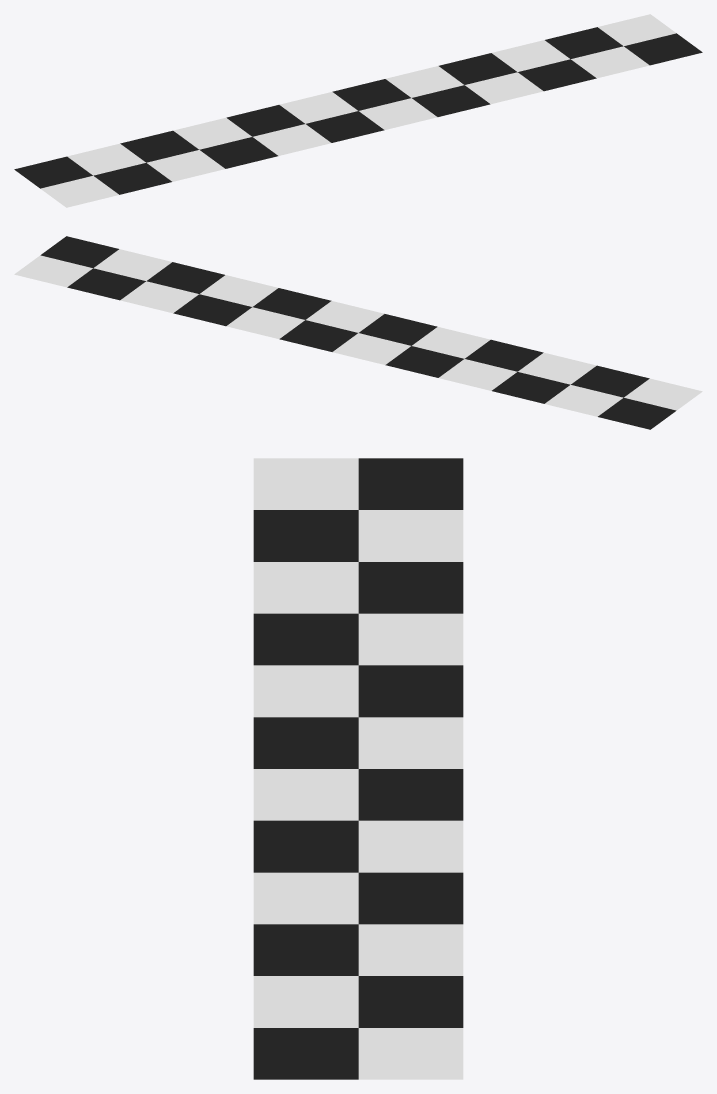
Rendered from Start&Stop.fbx.
3 renders of one model, top to bottom at view 1: azimuth 30°, elevation 25°; view 2: azimuth 150°, elevation 25°; view 3: azimuth 270°, elevation 25°, orthographic. The views are drawn at different scales.
Parts seen in each view (by area): view 1: PatternRoad.002; view 2: PatternRoad.002; view 3: PatternRoad.002.
Boxes of the visible parts, x1,y1,x2,y2 form: PatternRoad.002: (14, 14, 702, 207); PatternRoad.002: (14, 236, 702, 429); PatternRoad.002: (253, 458, 463, 1079).
Size of the model in its own units: 14.03 by 3.26e-07 by 2.
Materials: 1 (1 with a texture image).
